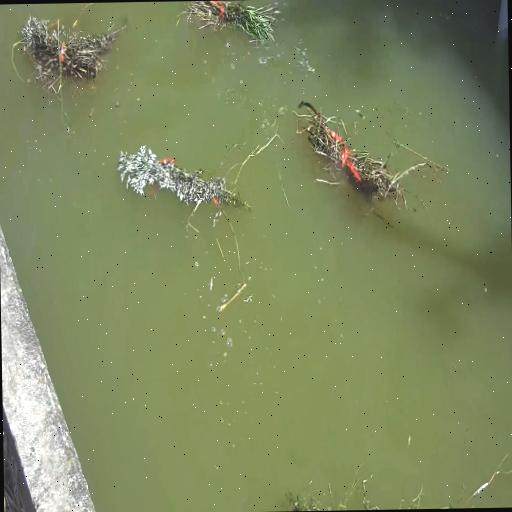twig: (0, 5, 115, 117), (122, 141, 255, 221), (304, 102, 408, 204), (176, 0, 282, 46), (289, 486, 424, 512)
